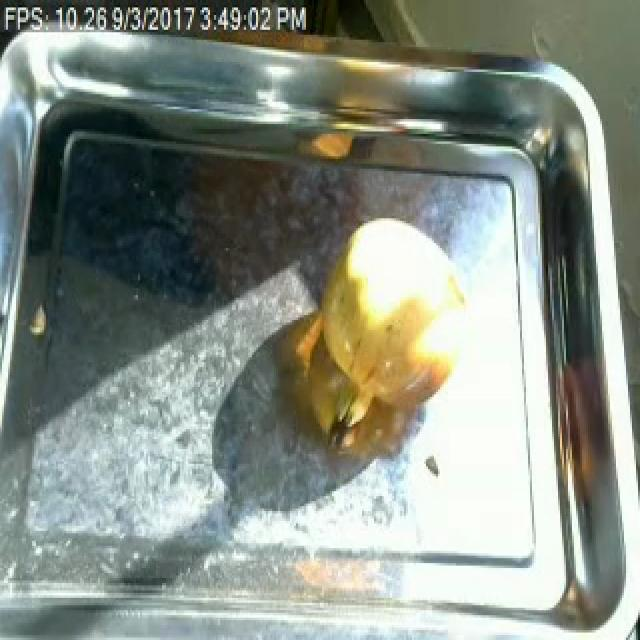fruit: (310, 204, 482, 434)
